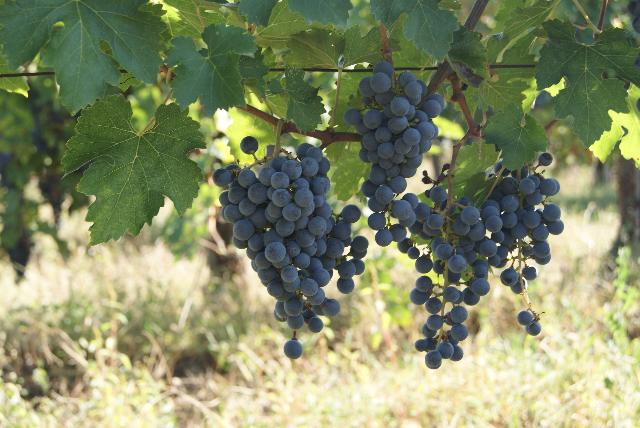grapes: (212, 144, 369, 359), (408, 184, 528, 369), (344, 60, 445, 245), (500, 169, 564, 265)
